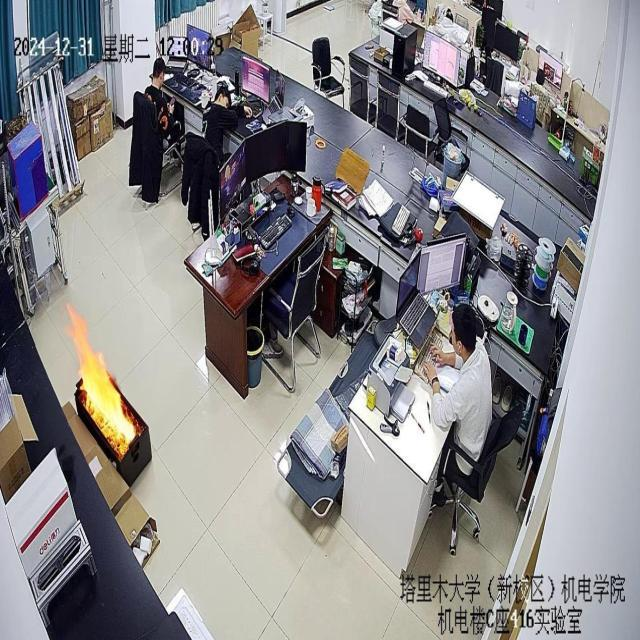smoke: (65, 302, 136, 456)
